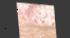plaque psoriasis: (16, 1, 55, 26)
